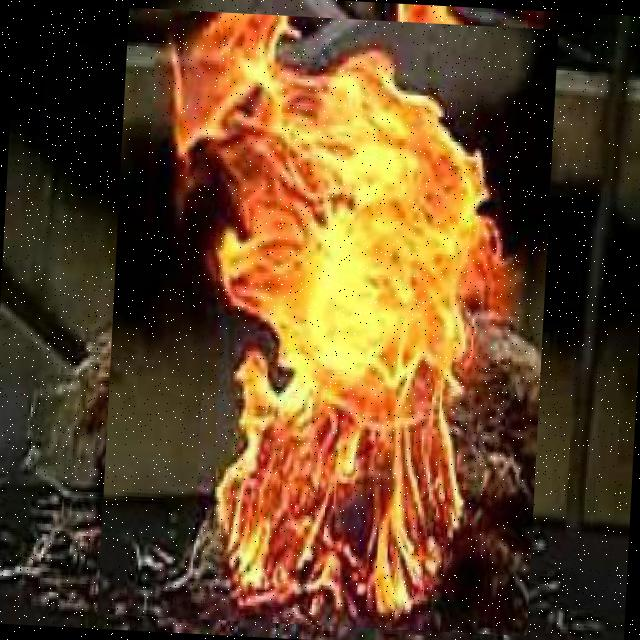fire: (97, 8, 558, 636)
